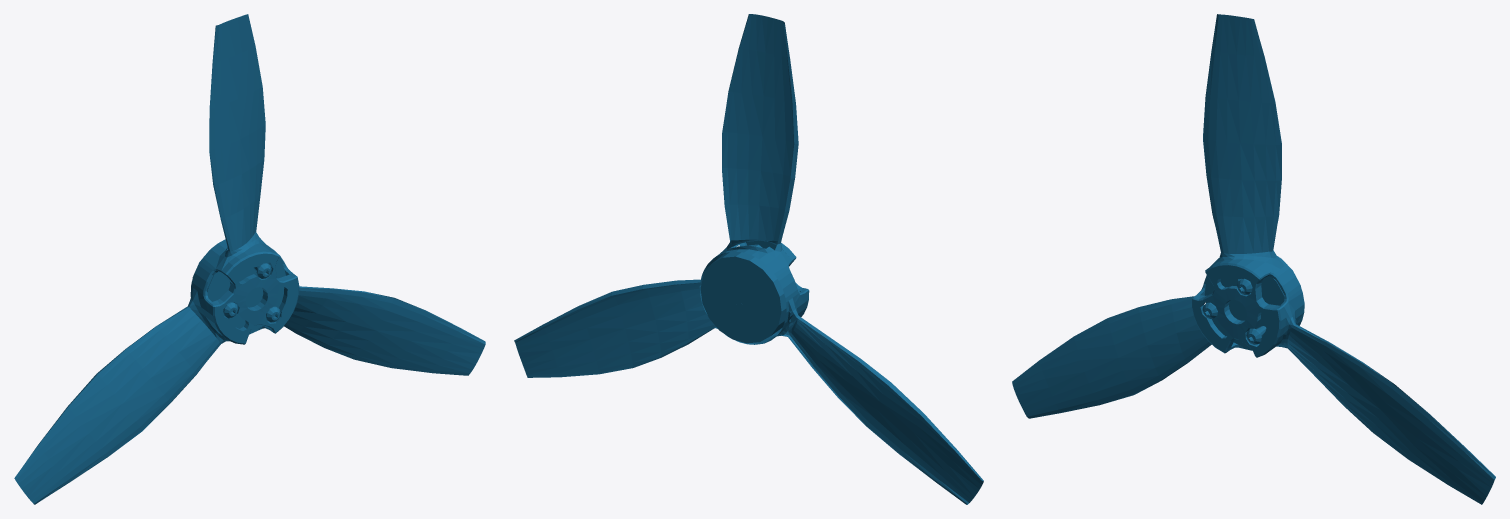
File: link_marvin_rotor_front_right.obj
3 renders of one model, left to right at view 1: azimuth 30°, elevation 25°; view 2: azimuth 150°, elevation 25°; view 3: azimuth 330°, elevation 25°, orthographic. The views are drawn at different scales.
Parts seen in each view (by area): view 1: Mesh1 link_marvin_rotor_front_right1 Model, Mesh5 link_marvin_rotor_front_right1 Model; view 2: Mesh1 link_marvin_rotor_front_right1 Model, Mesh5 link_marvin_rotor_front_right1 Model; view 3: Mesh1 link_marvin_rotor_front_right1 Model, Mesh5 link_marvin_rotor_front_right1 Model.
Part boxes in pixels (bbox=[...]): Mesh1 link_marvin_rotor_front_right1 Model: bbox=[14, 14, 485, 504]; Mesh5 link_marvin_rotor_front_right1 Model: bbox=[192, 248, 285, 331]; Mesh1 link_marvin_rotor_front_right1 Model: bbox=[514, 14, 983, 504]; Mesh5 link_marvin_rotor_front_right1 Model: bbox=[700, 245, 793, 343]; Mesh1 link_marvin_rotor_front_right1 Model: bbox=[1012, 14, 1495, 504]; Mesh5 link_marvin_rotor_front_right1 Model: bbox=[1204, 258, 1300, 347].
Size of the model in its own units: 0.1359 by 0.121 by 0.0137.
Materials: 1 (1 with a texture image).
